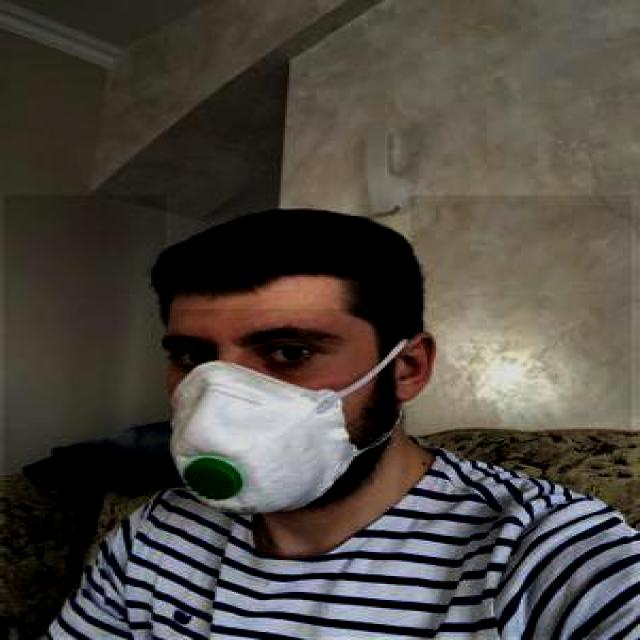face_mask: (170, 304, 362, 515)
head_nohelmet: (166, 195, 410, 309)
person: (2, 196, 632, 638)
